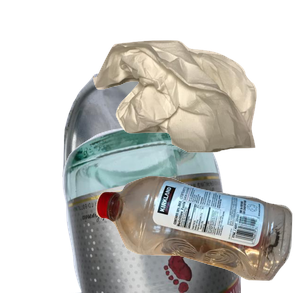glass: (60, 120, 300, 300)
metal: (60, 44, 300, 224)
plastic: (93, 173, 300, 300)
trash: (90, 38, 300, 183)
